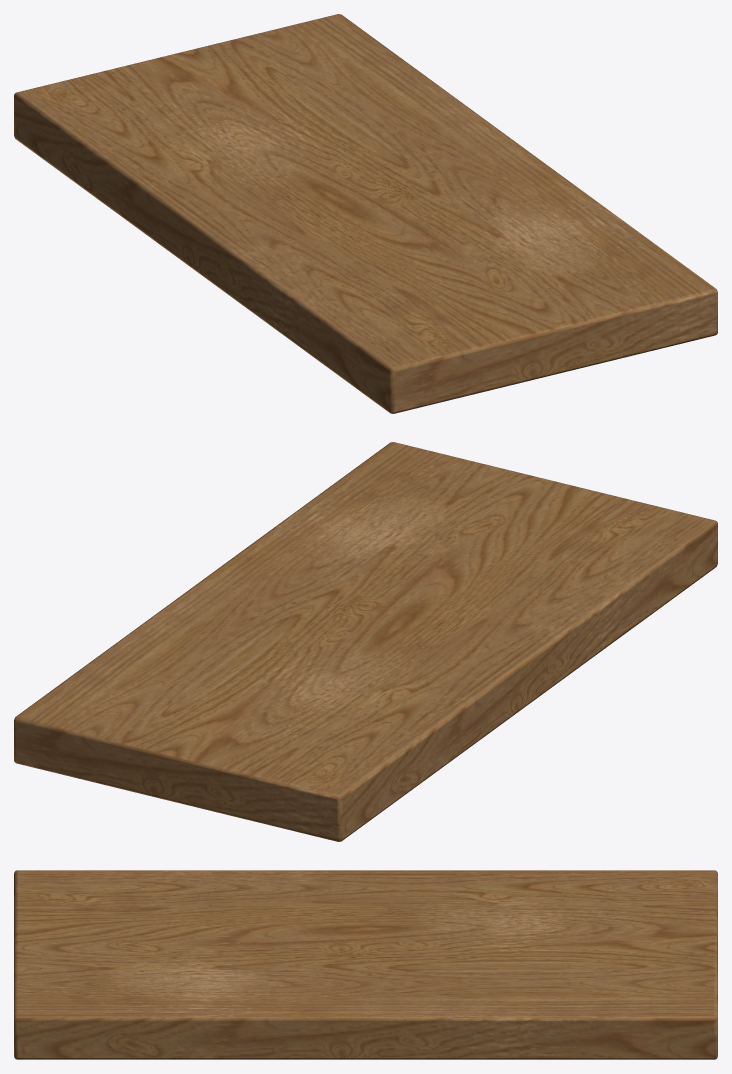
The model's file is WoodPlank.glb.
3 views of the same model, one above another, from view 1: azimuth 30°, elevation 25°; view 2: azimuth 150°, elevation 25°; view 3: azimuth 270°, elevation 25° (orthographic). The views are drawn at different scales.
Parts seen in each view (by area): view 1: Wood; view 2: Wood; view 3: Wood.
Boxes of the visible parts, box(x1,y1,x2,y2) form: Wood: box(14, 14, 717, 413); Wood: box(14, 442, 717, 841); Wood: box(14, 870, 717, 1059).
Size of the model in its own units: 0.25 by 0.0341 by 0.5.
1 material, 1 textured.
